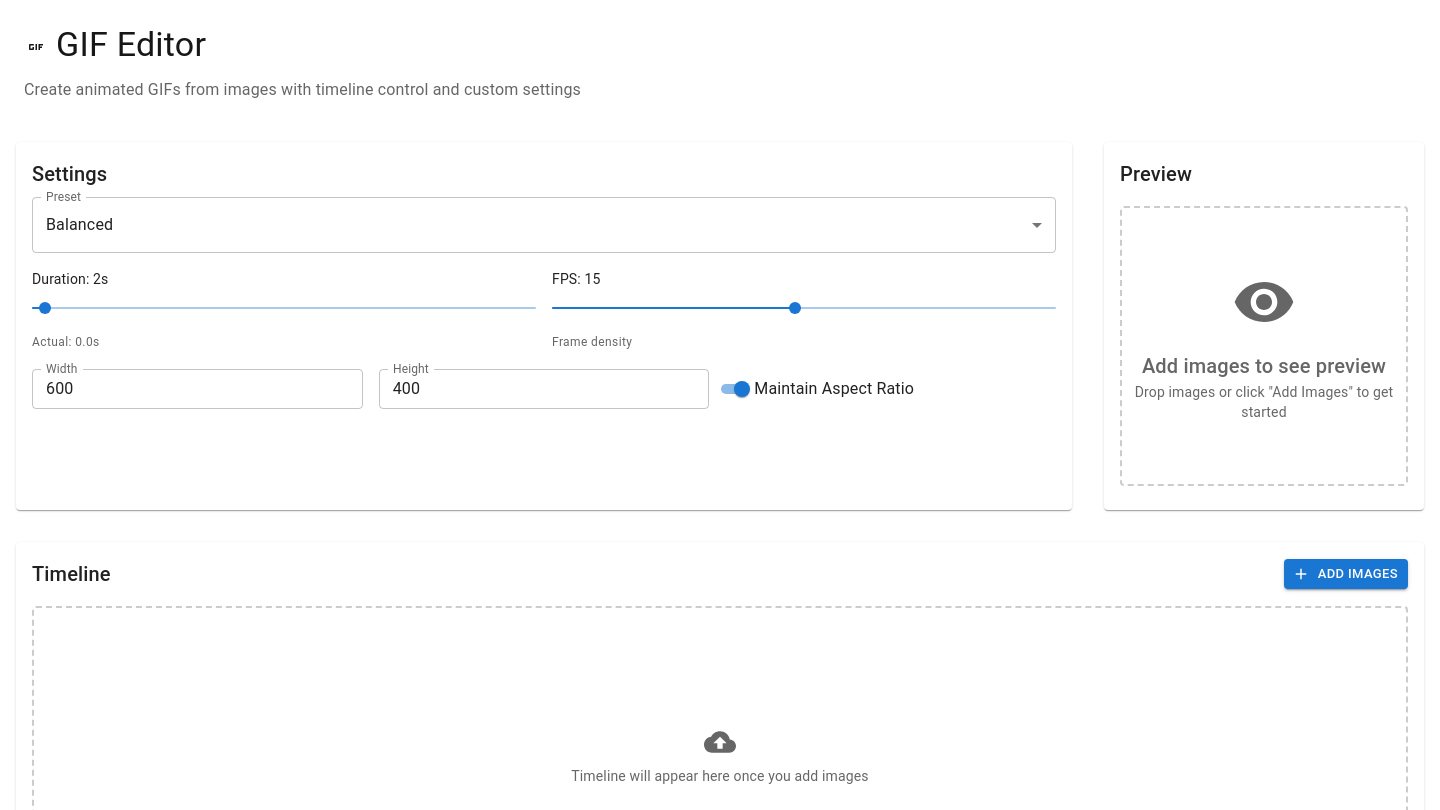
it: GifCreatorTool › should allow preset selection
Click the dropdown. click: (80, 225)
box: top-left (46, 215), bottom-right (113, 234)
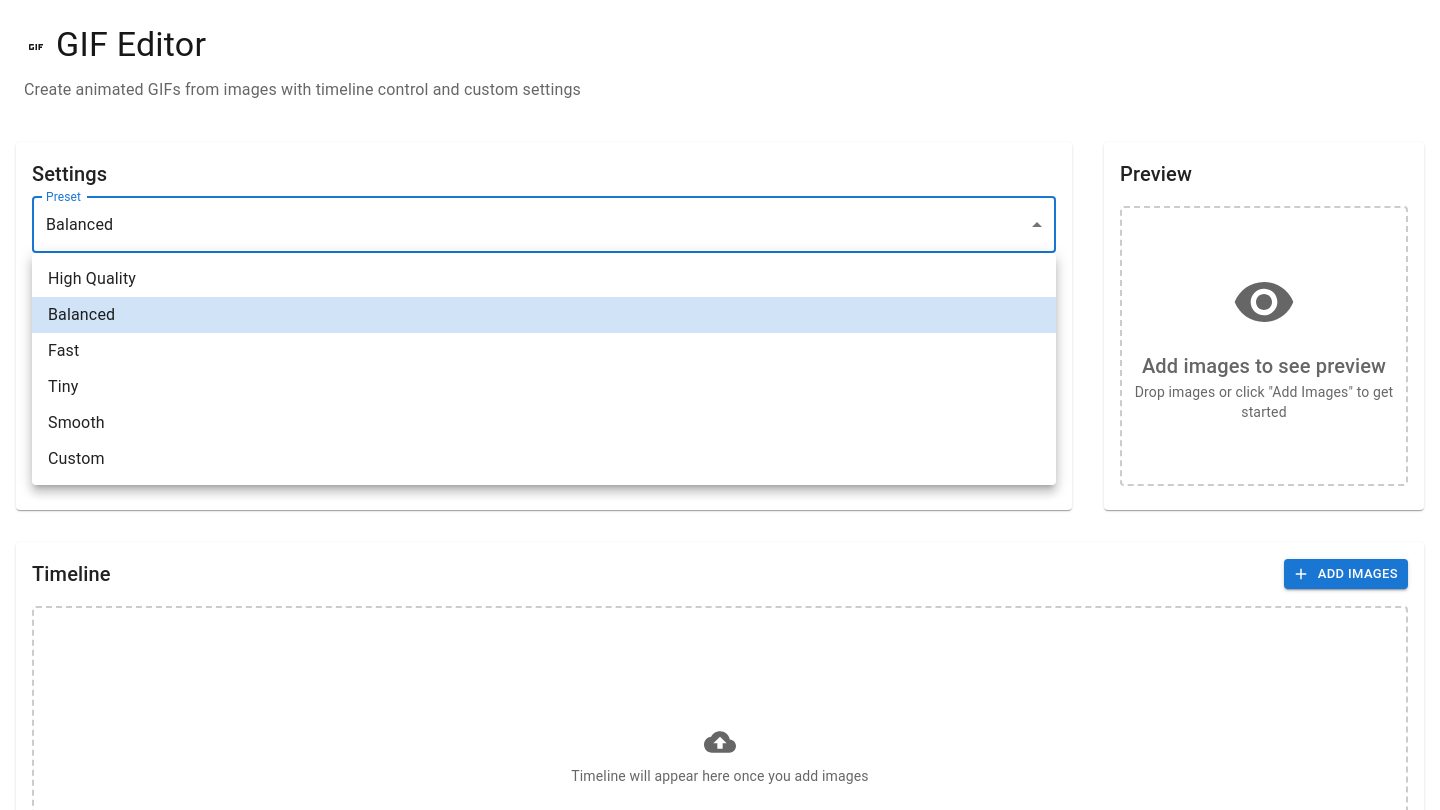
Expected: the option "High Quality" is shown, top-left (48, 269), bottom-right (136, 288)
Expected: the option "Balanced" is shown, top-left (32, 297), bottom-right (1056, 333)
Expected: the option "Fast" is shown, top-left (48, 341), bottom-right (79, 360)
